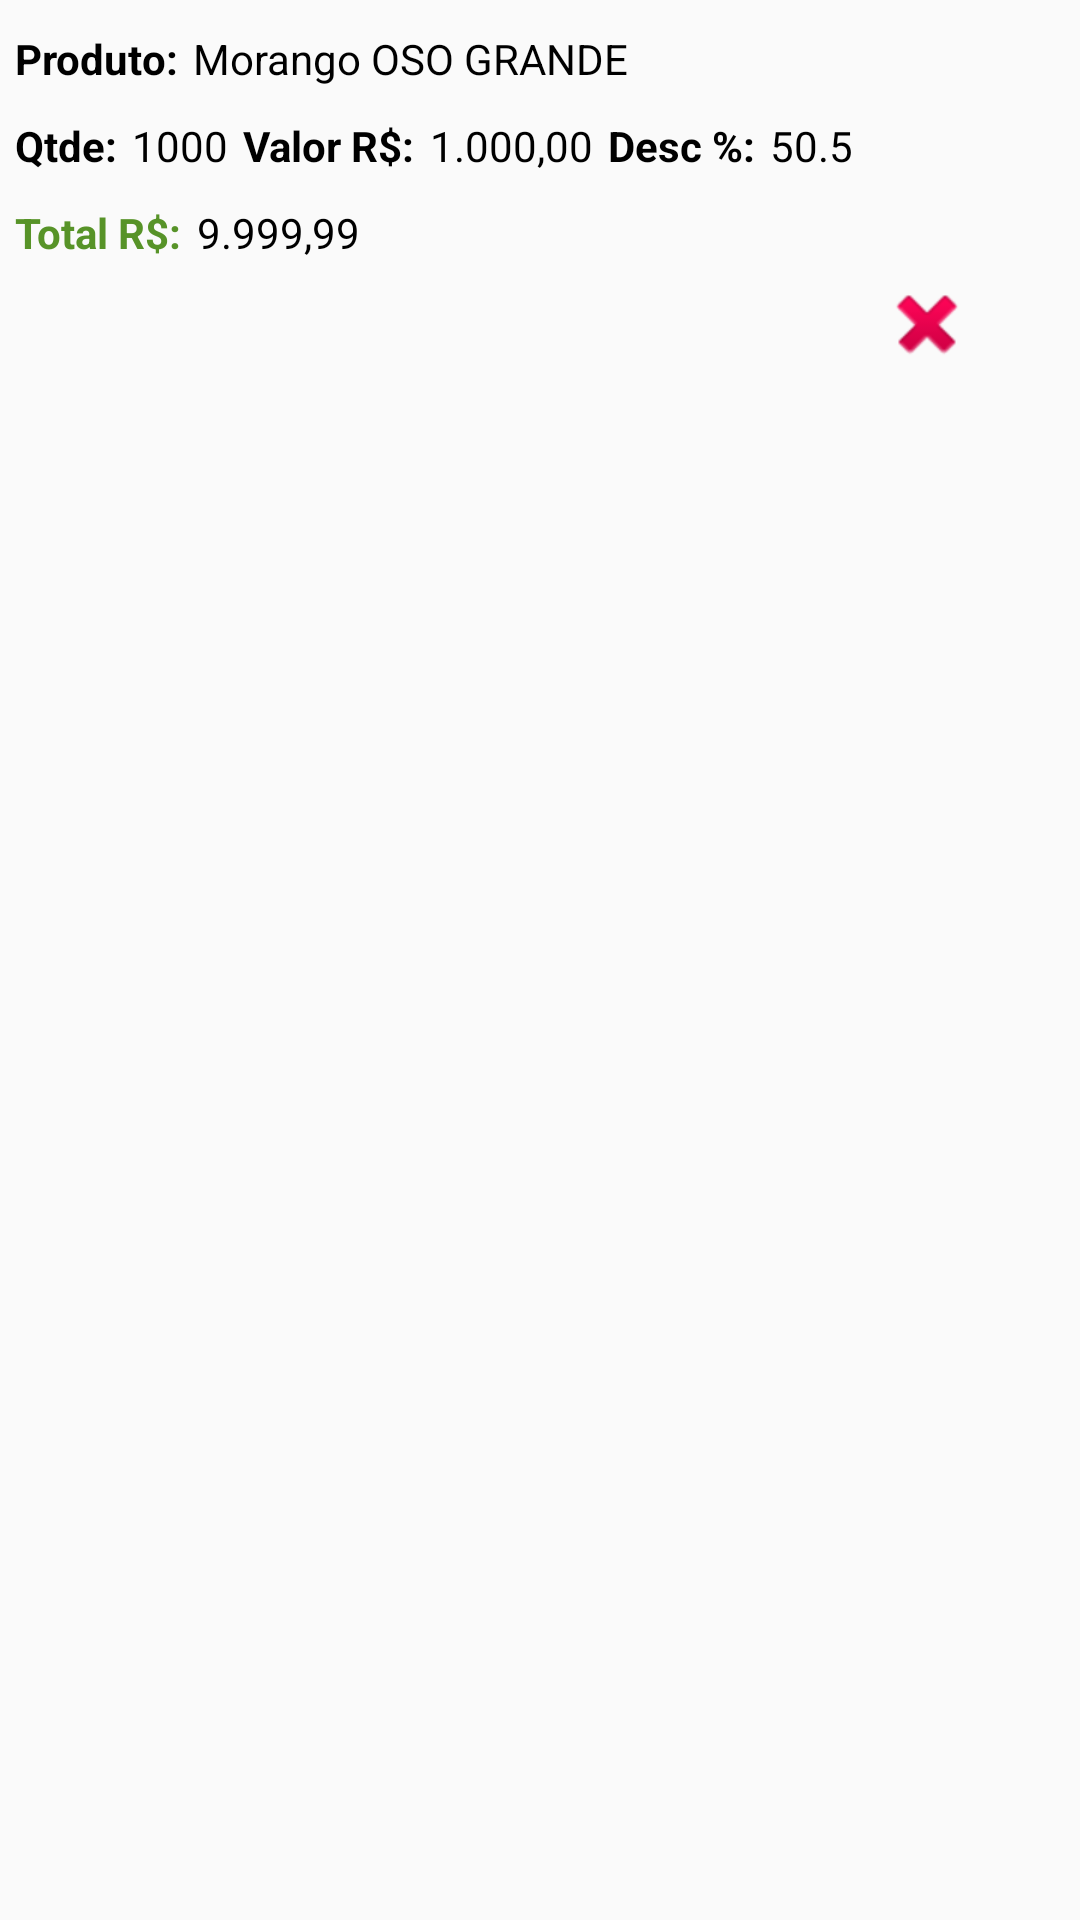

Screen size 1080×1920. Icon name, then its center in pixels as point (x, y):
delete: point (927, 324)
